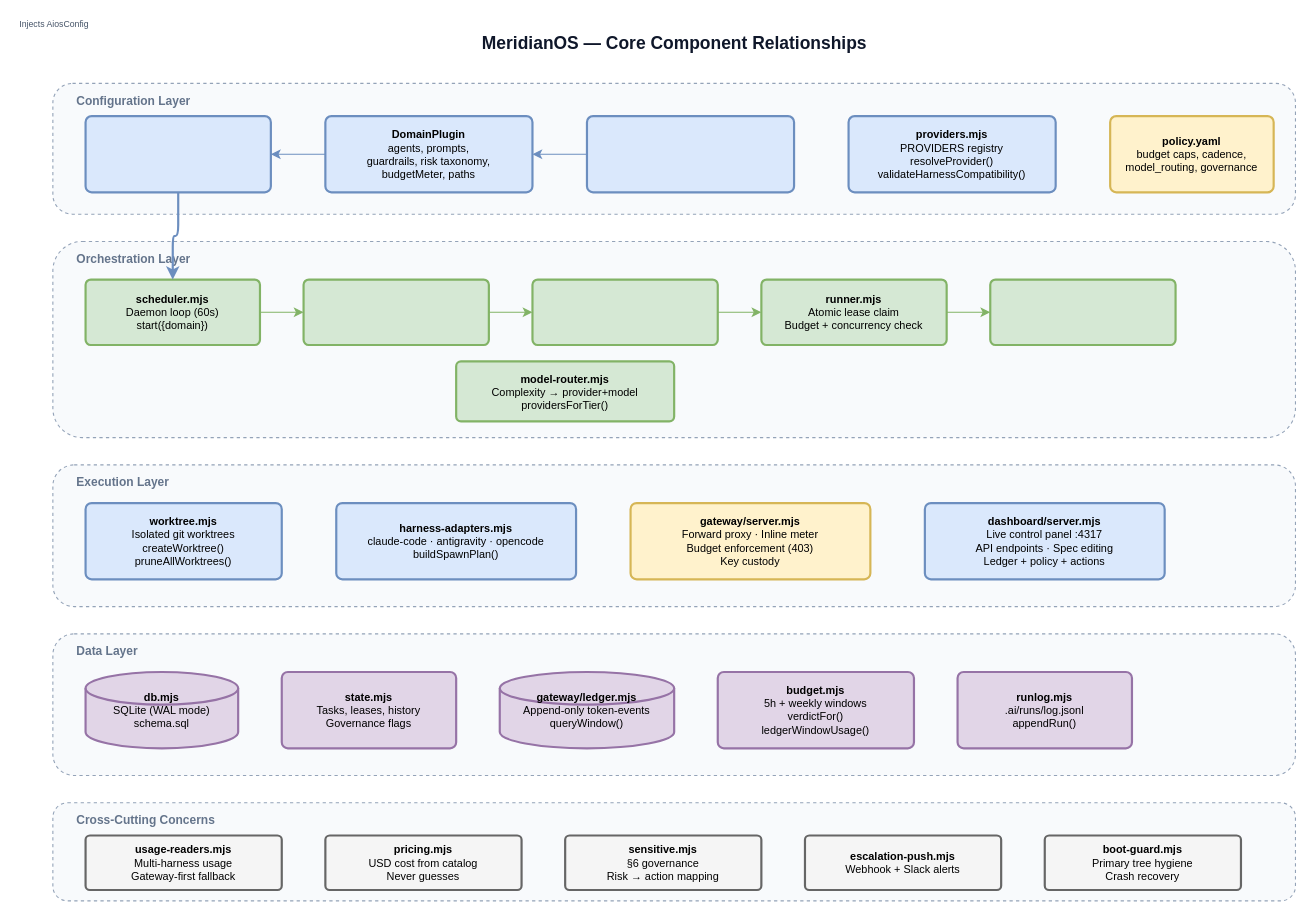
This 1315x920 diagram has some shape labels left out. Each missing label, with the box of its shape:
config.mjs AiosConfig factory resolvePaths() createAios({domain}): (84, 114, 271, 193)
launcher.mjs Spawn agent process Harness-agnostic: (989, 278, 1176, 346)
planner.mjs Intake → board cards Two-tier DoR gate: (302, 278, 489, 346)
tenant-config.mjs .ai/tenant.yaml loader Declarative DomainPlugin: (585, 114, 795, 193)
verifier.mjs Post-run quality gate Guardrail + peer review: (531, 278, 718, 346)
